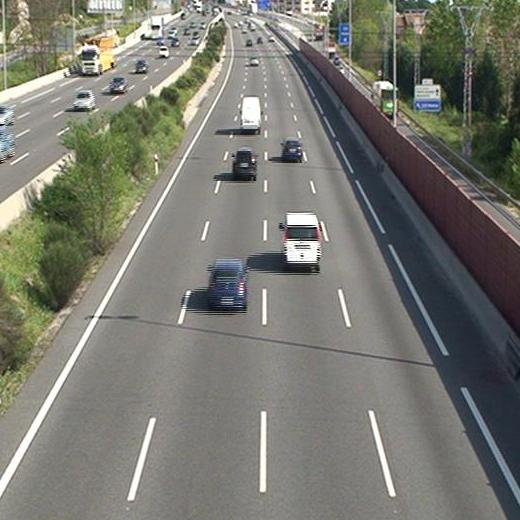car: (282, 213, 321, 266), (208, 258, 248, 309), (232, 150, 255, 180), (282, 139, 303, 159), (248, 55, 258, 66)
van: (242, 97, 261, 131)
